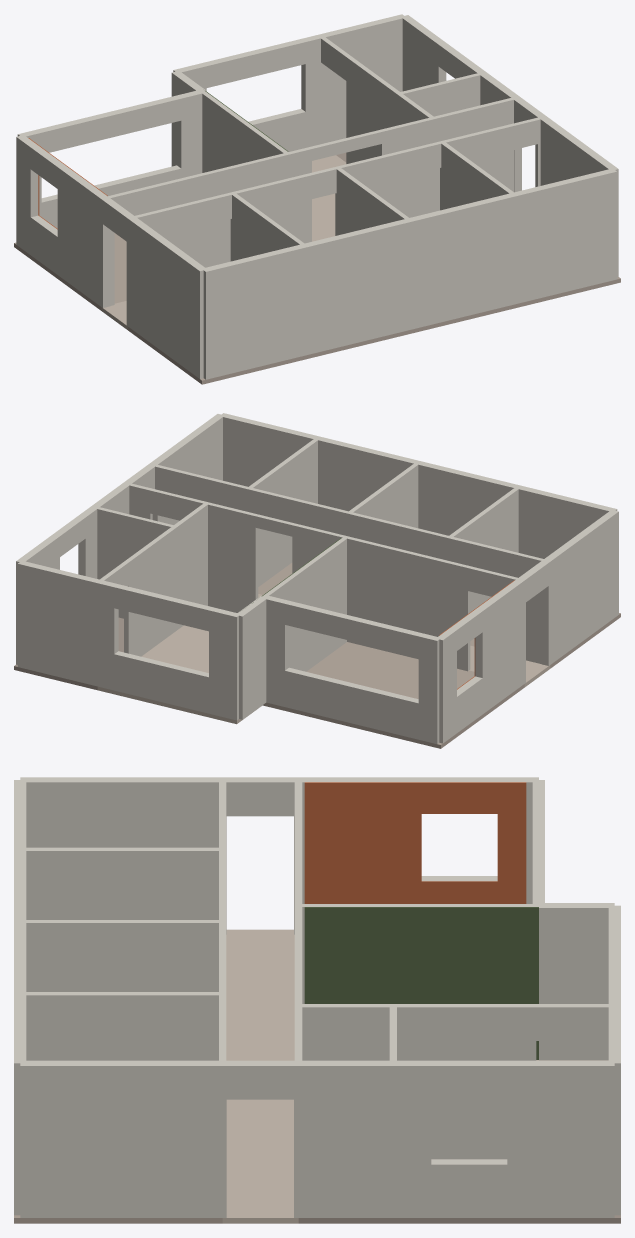
The picture shows the model from 3 angles, top to bottom: view 1: azimuth 30°, elevation 25°; view 2: azimuth 150°, elevation 25°; view 3: azimuth 270°, elevation 25°; orthographic projection. The views are drawn at different scales.
Parts seen in each view (by area): view 1: oficina_0_estructura; view 2: oficina_0_estructura; view 3: oficina_0_estructura.
Boxes of the visible parts, x1=… form: oficina_0_estructura: x1=14, y1=14, x2=620, y2=384; oficina_0_estructura: x1=14, y1=413, x2=620, y2=748; oficina_0_estructura: x1=14, y1=777, x2=620, y2=1223.
Bounding box in the file's own units: 10.97 × 9.75 × 2.8.
